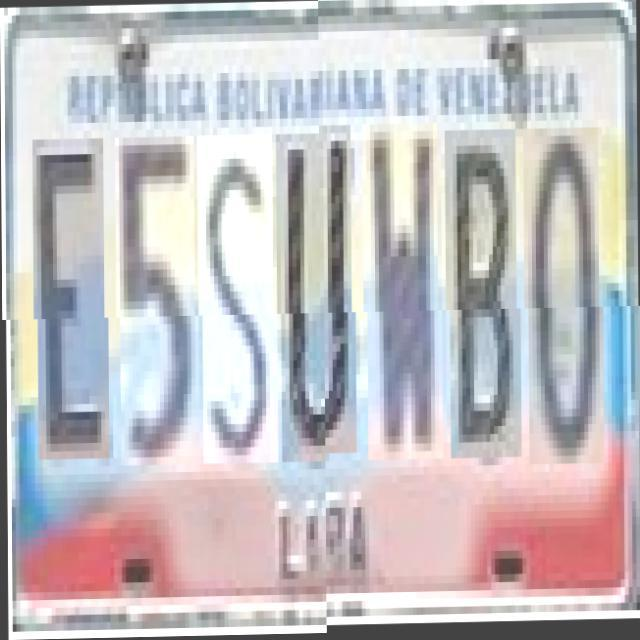5: (119, 138, 199, 466)
B: (449, 139, 521, 468)
E: (36, 139, 108, 460)
O: (528, 138, 604, 474)
S: (202, 136, 278, 465)
U: (280, 134, 356, 463)
W: (367, 133, 442, 470)
